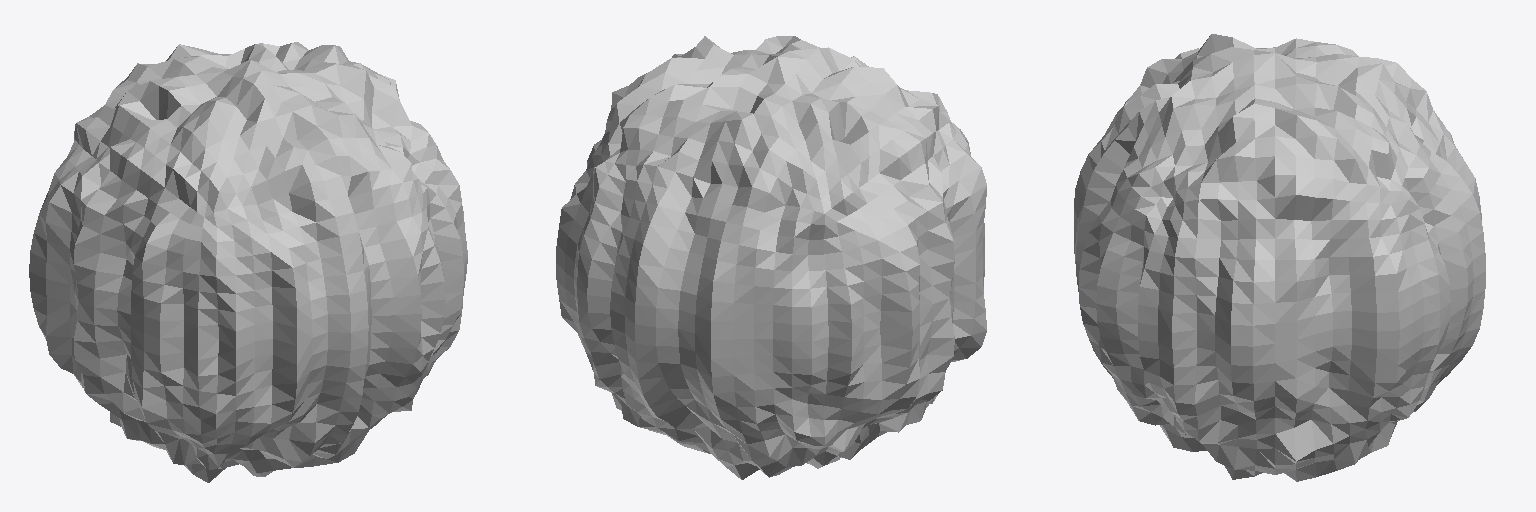
File: asteroid122.obj
3 views of the same model, side by side, from view 1: azimuth 30°, elevation 25°; view 2: azimuth 150°, elevation 25°; view 3: azimuth 270°, elevation 25° (orthographic).
Visible parts, largest first — view 1: Cube_Cube.002; view 2: Cube_Cube.002; view 3: Cube_Cube.002.
Part boxes in pixels (x1,y1,x2,y2): Cube_Cube.002: (29, 42, 467, 482); Cube_Cube.002: (556, 36, 986, 479); Cube_Cube.002: (1074, 34, 1485, 481).
Size of the model in its own units: 1.79 by 1.84 by 1.72.